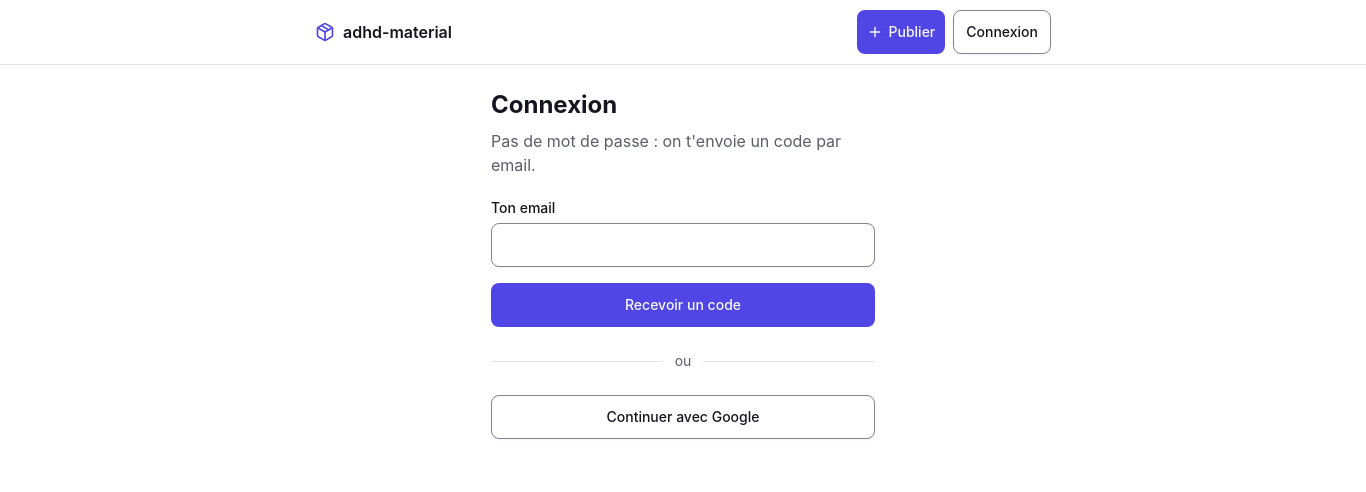
connexion par email puis code › garde la saisie et affiche l'erreur si le code est refusé
In the field labelled "Ton email": (683, 245) [491,223,875,267], type "moi@example.com"
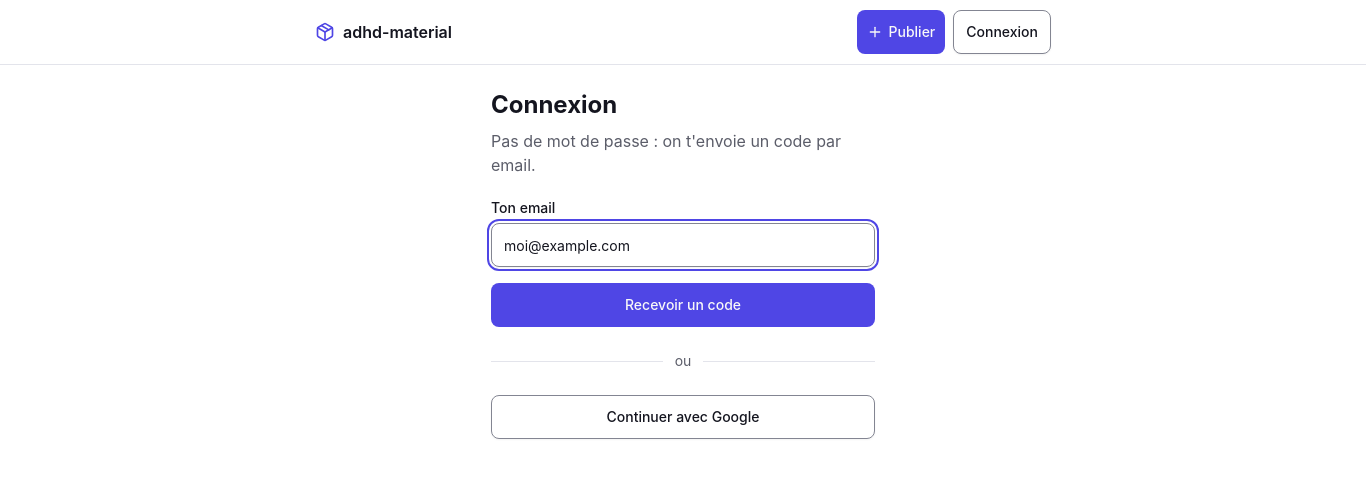
Click the button "Recevoir un code": click(683, 305) [491,283,875,327]
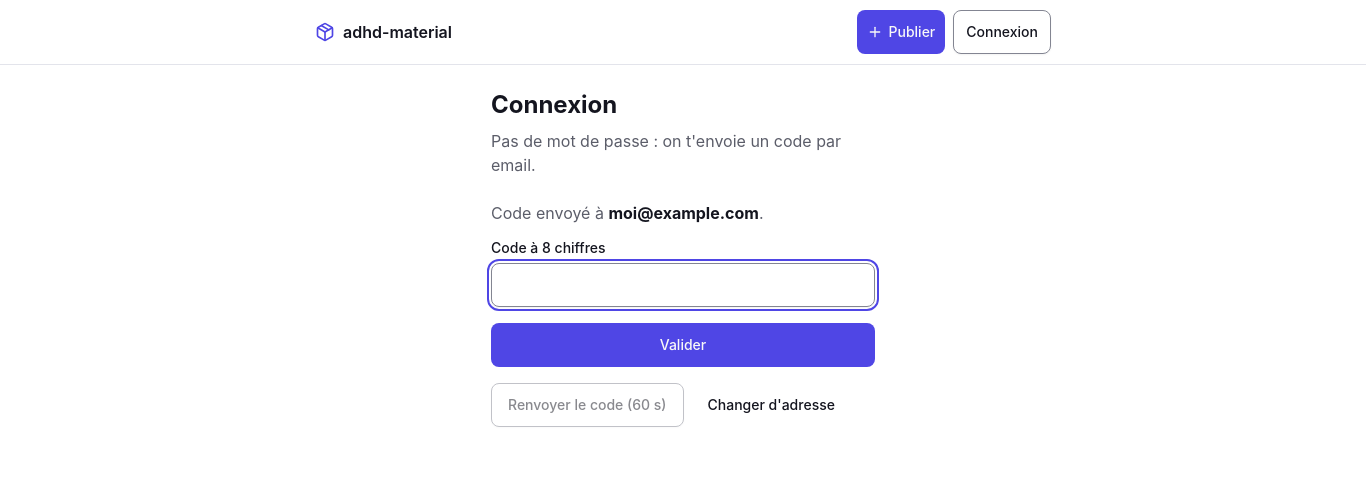
In the field labelled "Code à 8 chiffres": (683, 285) [491,263,875,307], type "00000000"
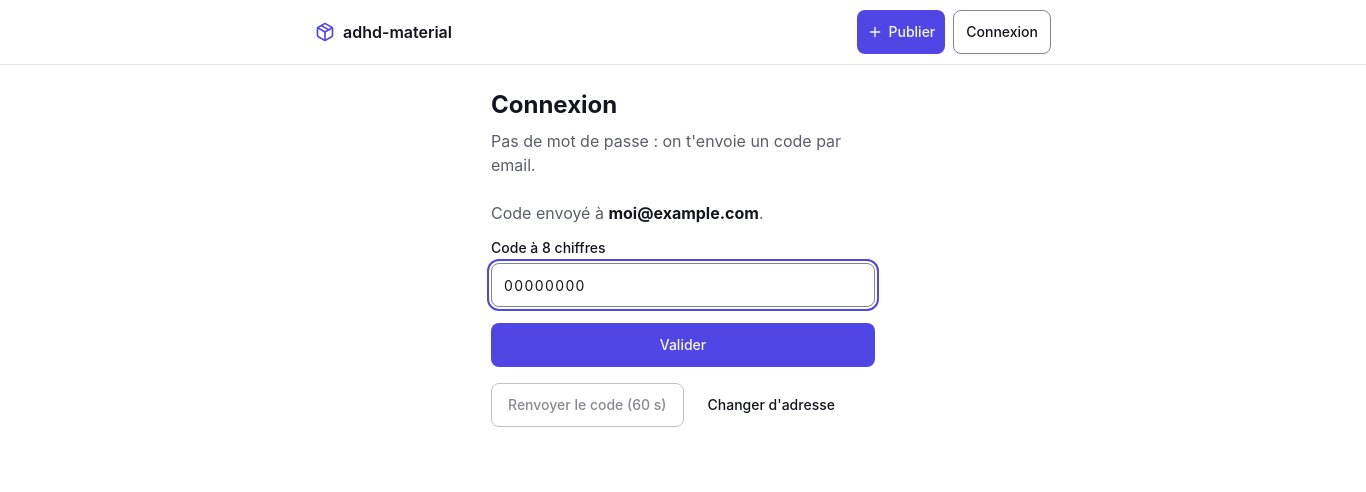
Click the button "Valider": click(683, 345) [491,323,875,367]
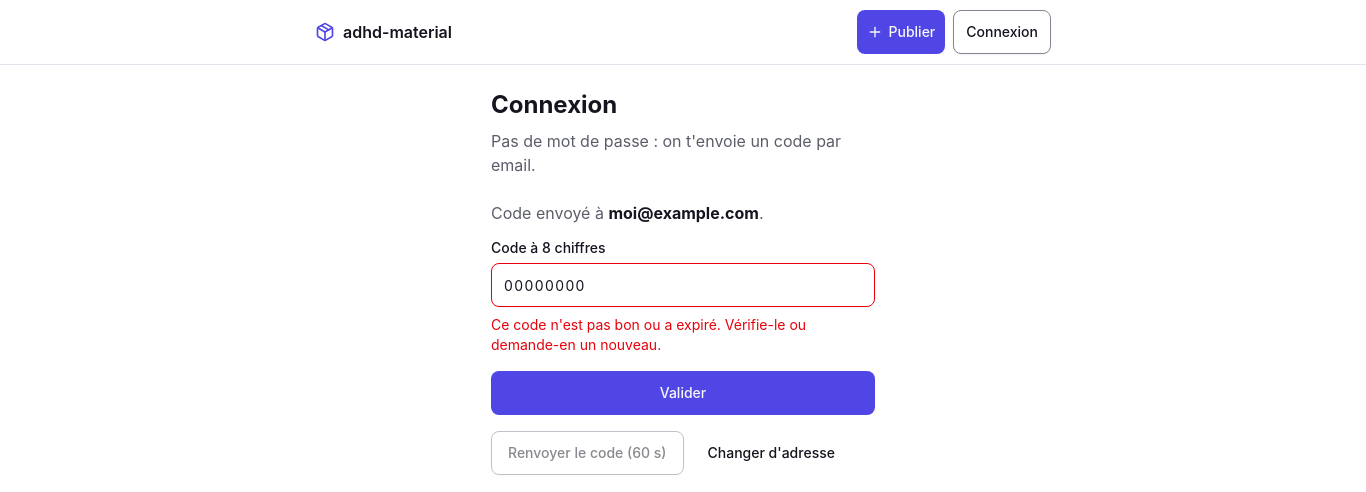
Now the message shows "pas bon ou a expiré", box [491,316,806,353]
